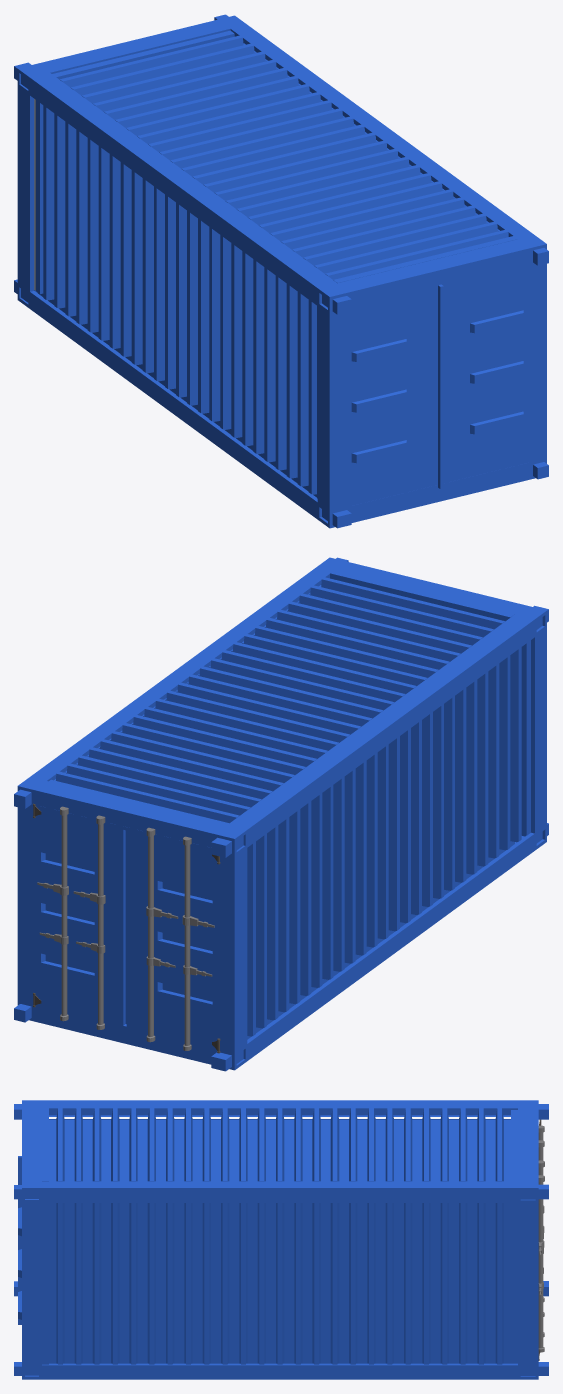
Rendered from CONTAINER.fbx.
3 views of the same model, one above another, from view 1: azimuth 30°, elevation 25°; view 2: azimuth 150°, elevation 25°; view 3: azimuth 270°, elevation 25° (orthographic). The views are drawn at different scales.
Visible parts, largest first — view 1: Cube.002, Cube, Cube.001, Plane.002; view 2: Cube.002, Cube.001, Cube, Plane, Cylinder.006, Cylinder, Cylinder.003, Cylinder.009; view 3: Cube.003, Cube, Cube.001, Cylinder.006, Plane.002.
Boxes of the visible parts, bbox=[...] form: Cube.002: bbox=[35, 100, 317, 498]; Cube: bbox=[14, 14, 548, 528]; Cube.001: bbox=[52, 30, 517, 283]; Plane.002: bbox=[349, 266, 530, 506]; Cube.002: bbox=[247, 640, 530, 1036]; Cube.001: bbox=[49, 570, 514, 824]; Cube: bbox=[14, 557, 548, 1071]; Plane: bbox=[31, 804, 220, 1052]; Cylinder.006: bbox=[60, 806, 68, 1021]; Cylinder: bbox=[183, 836, 191, 1050]; Cylinder.003: bbox=[146, 827, 155, 1042]; Cylinder.009: bbox=[96, 815, 105, 1029]; Cube.003: bbox=[42, 1203, 517, 1364]; Cube: bbox=[14, 1100, 548, 1379]; Cube.001: bbox=[42, 1108, 517, 1181]; Cylinder.006: bbox=[538, 1175, 544, 1352]; Plane.002: bbox=[18, 1156, 21, 1324].
Size of the model in its own units: 583 by 594 by 1502.
